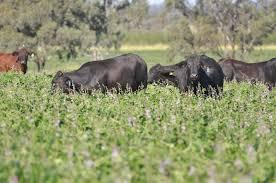cow: (51, 53, 148, 94), (178, 52, 223, 94), (222, 57, 276, 85), (147, 60, 187, 85), (0, 47, 37, 74)
